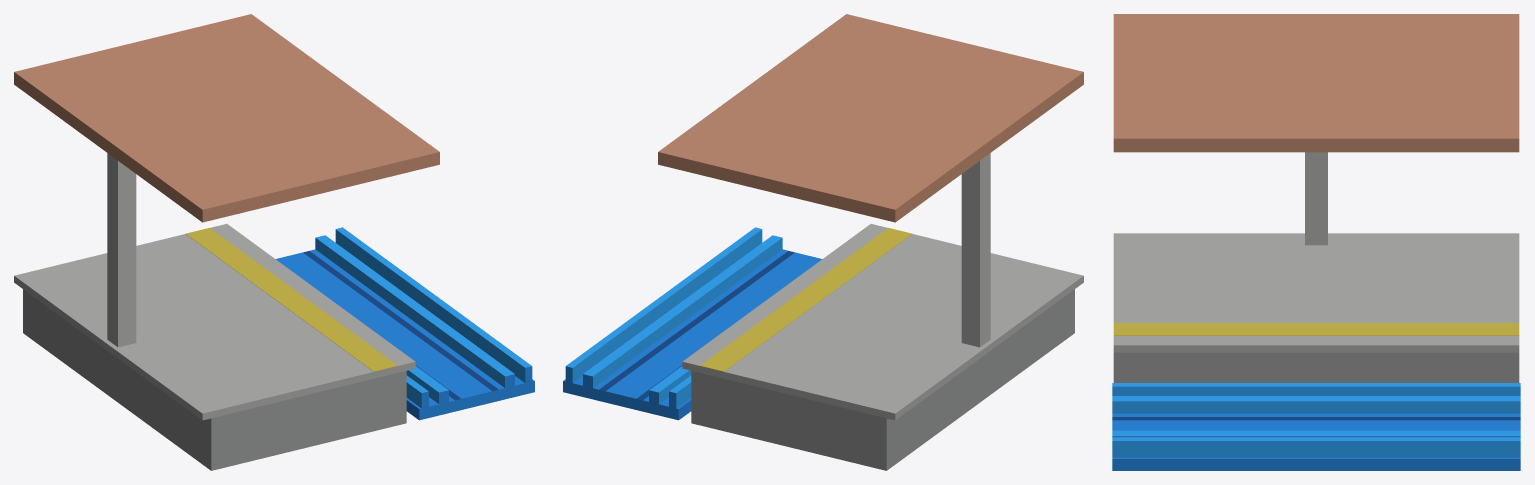
File: Track_PlatformLeft.fbx
3 views of the same model, side by side, from view 1: azimuth 30°, elevation 25°; view 2: azimuth 150°, elevation 25°; view 3: azimuth 270°, elevation 25° (orthographic). The views are drawn at different scales.
Visible parts, largest first — view 1: Platform roof, Platform deck, Platform skirt, Molded rail, Platform roof post, Platform edge line; view 2: Platform roof, Platform deck, Platform skirt, Molded rail, Platform roof post, Platform edge line; view 3: Platform roof, Platform deck, Molded rail, Platform skirt, Platform edge line, Platform roof post.
Part boxes in pixels (left/top/right/bottom): Platform roof: left=14, top=14, right=439, bottom=222; Platform deck: left=14, top=224, right=415, bottom=420; Platform skirt: left=23, top=289, right=406, bottom=470; Molded rail: left=276, top=227, right=534, bottom=420; Platform roof post: left=107, top=153, right=136, bottom=347; Platform edge line: left=185, top=228, right=397, bottom=371; Platform roof: left=658, top=14, right=1083, bottom=222; Platform deck: left=682, top=224, right=1083, bottom=420; Platform skirt: left=691, top=289, right=1074, bottom=470; Molded rail: left=563, top=227, right=821, bottom=420; Platform roof post: left=961, top=153, right=990, bottom=347; Platform edge line: left=700, top=228, right=912, bottom=371; Platform roof: left=1113, top=14, right=1519, bottom=152; Platform deck: left=1113, top=233, right=1519, bottom=352; Molded rail: left=1112, top=383, right=1520, bottom=470; Platform skirt: left=1113, top=352, right=1519, bottom=382; Platform edge line: left=1113, top=323, right=1519, bottom=335; Platform roof post: left=1305, top=152, right=1327, bottom=245.
Bounding box in the file's own units: 303 × 230 × 300.
